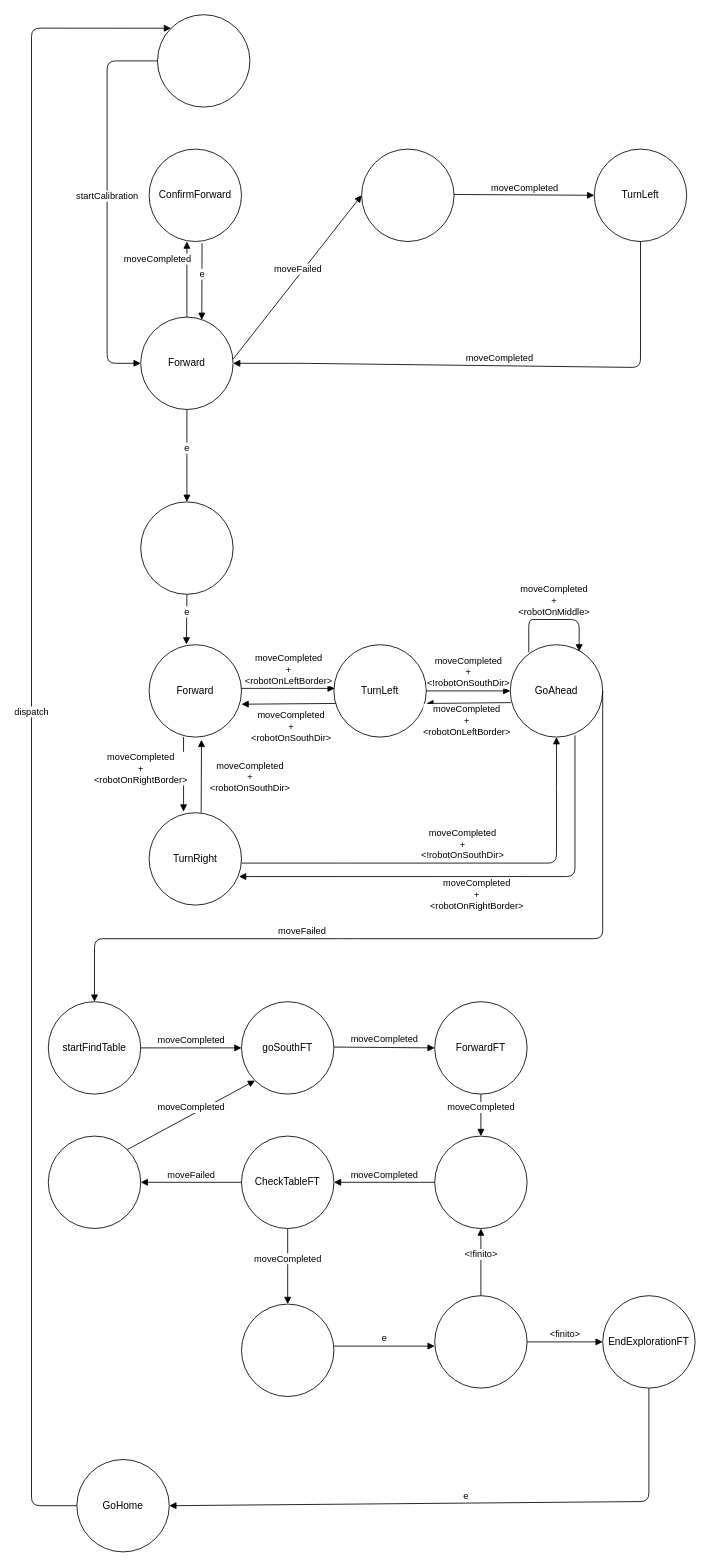
Image size: 710x1567. Some labels were removed from this diagram. The centre of each missing label's shape, as x and y in pixels:
"AngleFT" belongs at [480,1341].
"Backtracking" belongs at [407,195].
"BacktrackingFT" belongs at [94,1181].
"ConfirmForwardFT" belongs at [287,1349].
"GoInternFT" belongs at [480,1181].
"StartExploration" belongs at [186,547].
"WaitCmd" belongs at [203,60].
